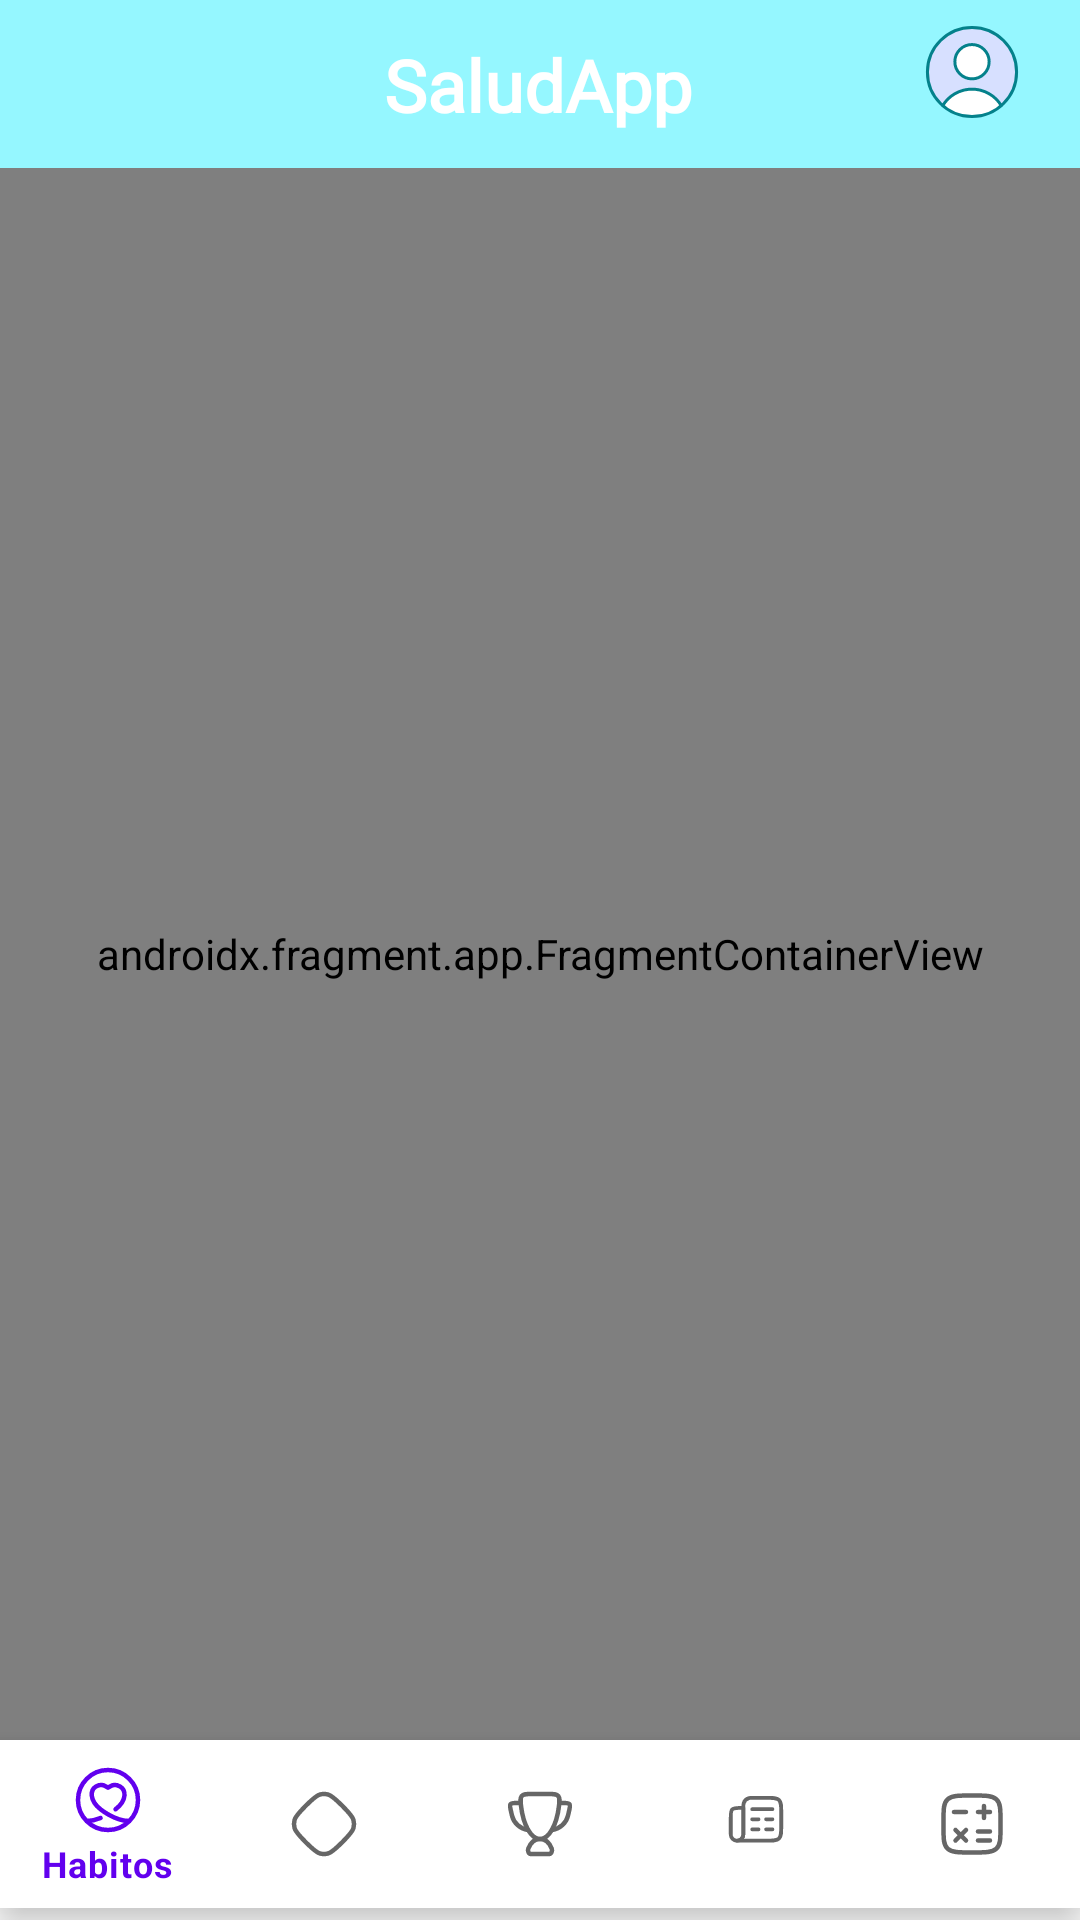

Where to tap for icons on this 1080x1920 app screen, as (x=x, y=y):
Ícono de perfil: (x=972, y=72)
